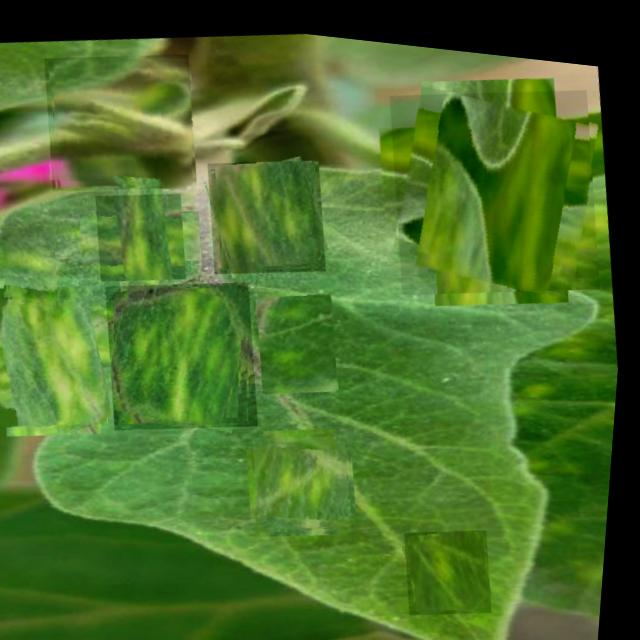leaf_spot: (379, 58, 615, 301), (101, 262, 272, 439), (37, 36, 207, 201), (0, 282, 130, 436), (204, 142, 336, 277), (254, 418, 364, 530), (255, 279, 349, 393), (93, 181, 195, 285), (407, 510, 505, 611), (1, 219, 67, 304)
